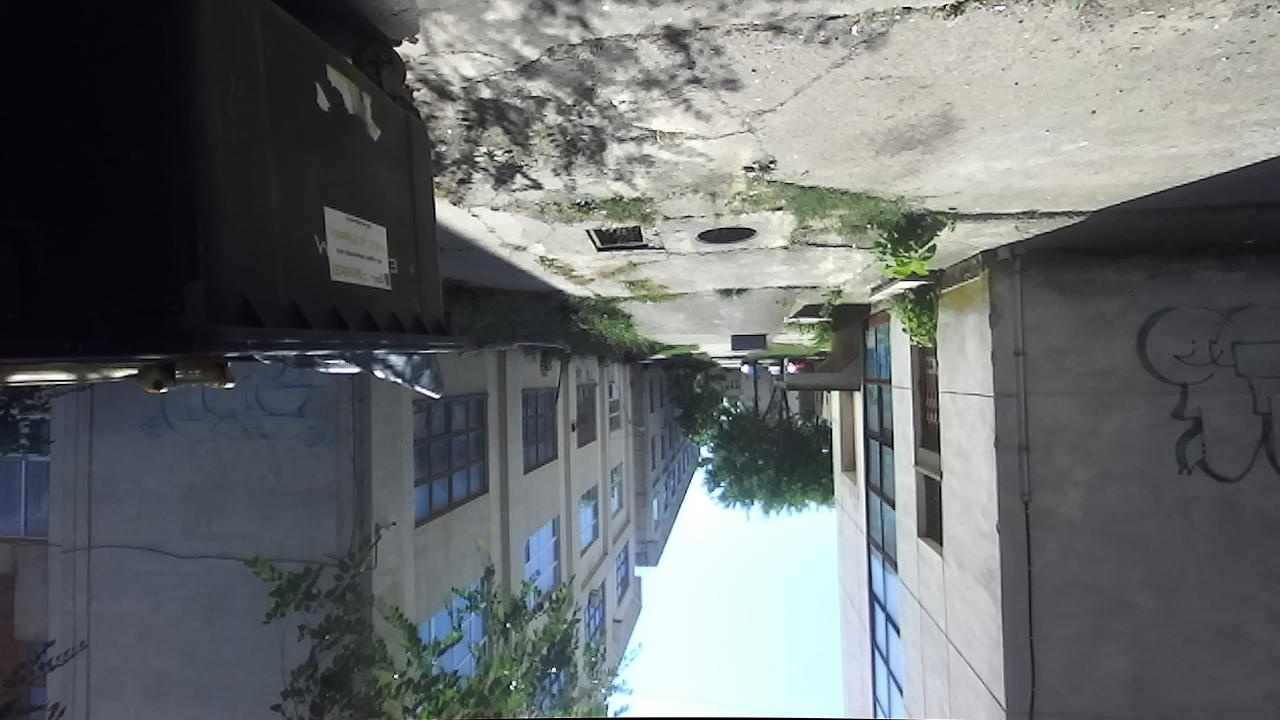drain: (580, 222, 649, 253), (687, 226, 760, 250)
